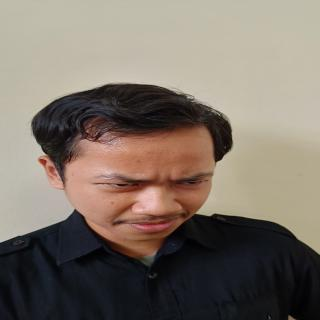Marah: (63, 128, 226, 244)
